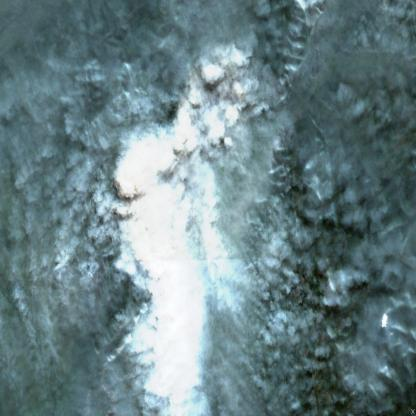fire: (110, 44, 243, 203)
